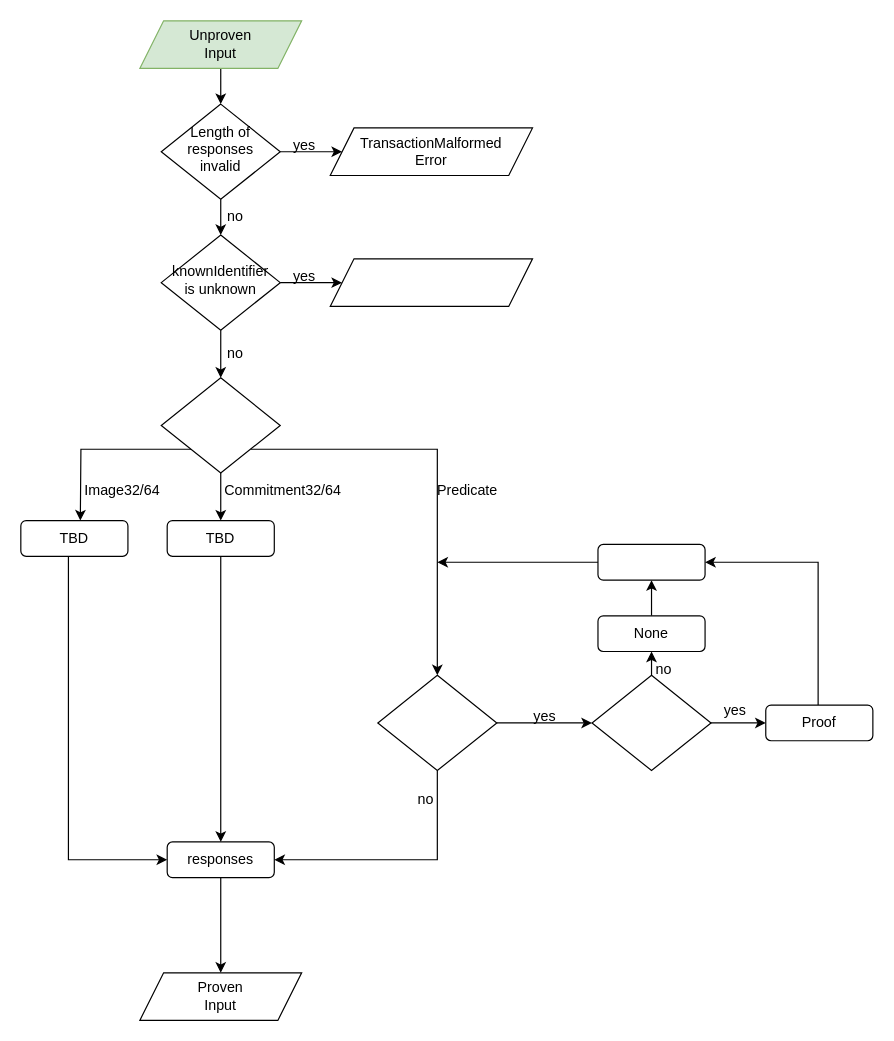
Some shapes in this 894 by 1041 pixel diagram are drawn without their labels. The box of each missing label's shape, as (x1, y1, x2, y2) in pixels:
challenges remaining?: (377, 674, 497, 771)
is provable?: (591, 674, 711, 771)
KnownIdentifierUnknown Error: (329, 258, 533, 306)
response: (597, 543, 705, 580)
type of attestation: (160, 377, 280, 473)
